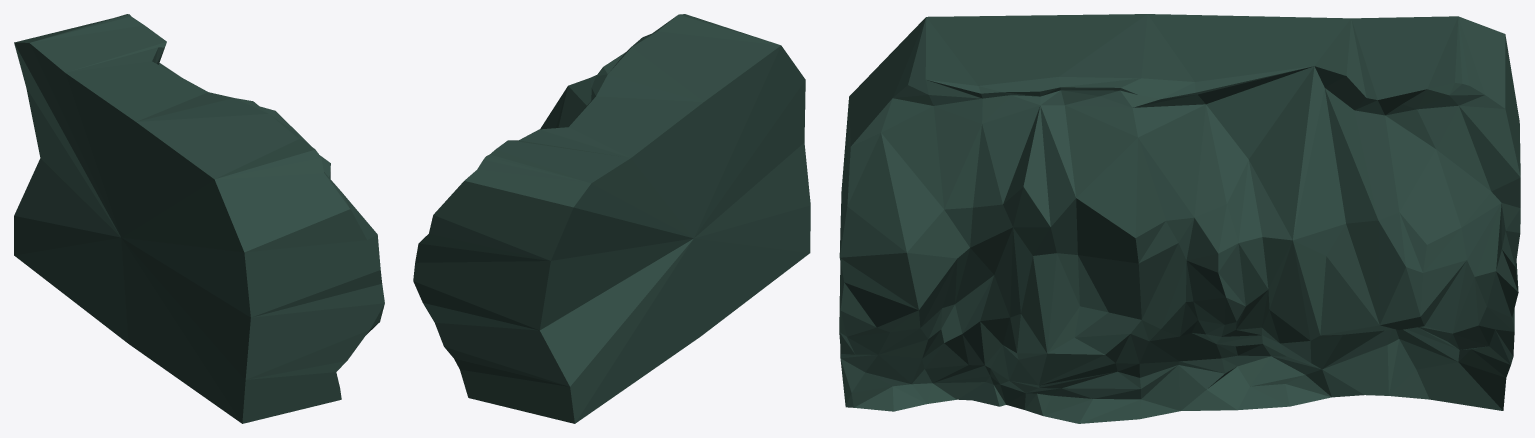
File: Cave_01.FBX
The picture shows the model from 3 angles, left to right: view 1: azimuth 30°, elevation 25°; view 2: azimuth 150°, elevation 25°; view 3: azimuth 270°, elevation 25°; orthographic projection. The views are drawn at different scales.
Visible parts, largest first — view 1: Cave_01; view 2: Cave_01; view 3: Cave_01.
Boxes of the visible parts, x1,y1,x2,y2 form: Cave_01: (14, 14, 384, 423); Cave_01: (413, 14, 810, 423); Cave_01: (839, 14, 1520, 423).
Size of the model in its own units: 46.32 by 58.65 by 109.
